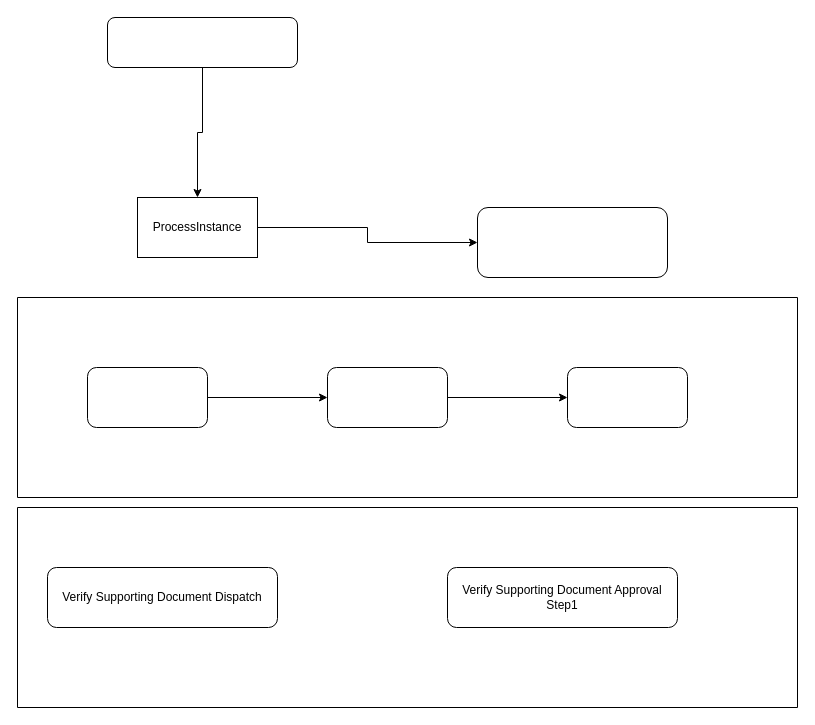
Image size: 815x725. Some labels were removed from this diagram. Each missing label, with the centre of its shape:
"ProcessDefinition" belongs at point (202, 42).
"ProcessNode" belongs at point (572, 242).
